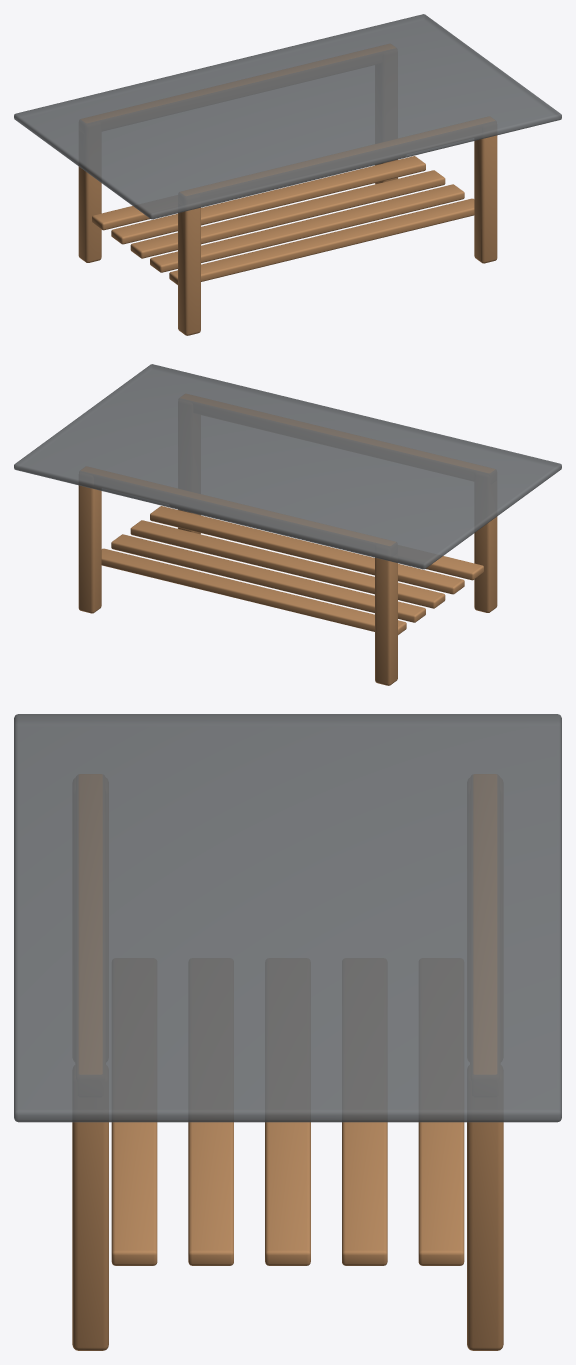
Rendered from limoon-orta-sehpa.glb.
The picture shows the model from 3 angles, top to bottom: view 1: azimuth 30°, elevation 25°; view 2: azimuth 150°, elevation 25°; view 3: azimuth 270°, elevation 25°; orthographic projection. The views are drawn at different scales.
Parts seen in each view (by area): view 1: CT_GlassTop, CT_Slat_2, CT_Slat_3, CT_Slat_1, CT_Slat_0, CT_Leg_1, CT_Leg_0, CT_Leg_2, CT_Bar_0, CT_Bar_1, CT_Slat_4; view 2: CT_GlassTop, CT_Slat_2, CT_Slat_1, CT_Slat_3, CT_Slat_4, CT_Leg_3, CT_Leg_2, CT_Leg_0, CT_Bar_1, CT_Bar_0, CT_Slat_0; view 3: CT_GlassTop, CT_Leg_1, CT_Leg_3, CT_Bar_0, CT_Bar_1, CT_Slat_0, CT_Slat_4, CT_Slat_2, CT_Slat_1, CT_Slat_3.
Boxes of the visible parts, x1,y1,x2,y2 form: CT_GlassTop: [14, 14, 561, 219]; CT_Slat_2: [130, 170, 445, 258]; CT_Slat_3: [111, 156, 425, 244]; CT_Slat_1: [150, 184, 464, 272]; CT_Slat_0: [169, 198, 474, 284]; CT_Leg_1: [474, 135, 497, 263]; CT_Leg_0: [178, 207, 200, 335]; CT_Leg_2: [78, 166, 101, 262]; CT_Bar_0: [180, 116, 494, 195]; CT_Bar_1: [81, 44, 395, 122]; CT_Slat_4: [92, 206, 150, 230]; CT_GlassTop: [14, 364, 561, 569]; CT_Slat_2: [130, 520, 445, 608]; CT_Slat_1: [150, 506, 464, 594]; CT_Slat_3: [111, 534, 425, 622]; CT_Slat_4: [101, 548, 406, 634]; CT_Leg_3: [78, 485, 101, 613]; CT_Leg_2: [375, 557, 397, 685]; CT_Leg_0: [474, 516, 497, 612]; CT_Bar_1: [81, 466, 395, 545]; CT_Bar_0: [180, 394, 494, 472]; CT_Slat_0: [425, 556, 483, 580]; CT_GlassTop: [14, 714, 561, 1122]; CT_Leg_1: [72, 1122, 108, 1350]; CT_Leg_3: [467, 1122, 503, 1350]; CT_Bar_0: [79, 774, 102, 1074]; CT_Bar_1: [473, 774, 496, 1074]; CT_Slat_0: [111, 1122, 157, 1265]; CT_Slat_4: [418, 1122, 464, 1265]; CT_Slat_2: [265, 1122, 310, 1265]; CT_Slat_1: [188, 1122, 233, 1265]; CT_Slat_3: [342, 1122, 387, 1265].
Bounding box in the file's own units: 1.24 × 0.42 × 0.72.
